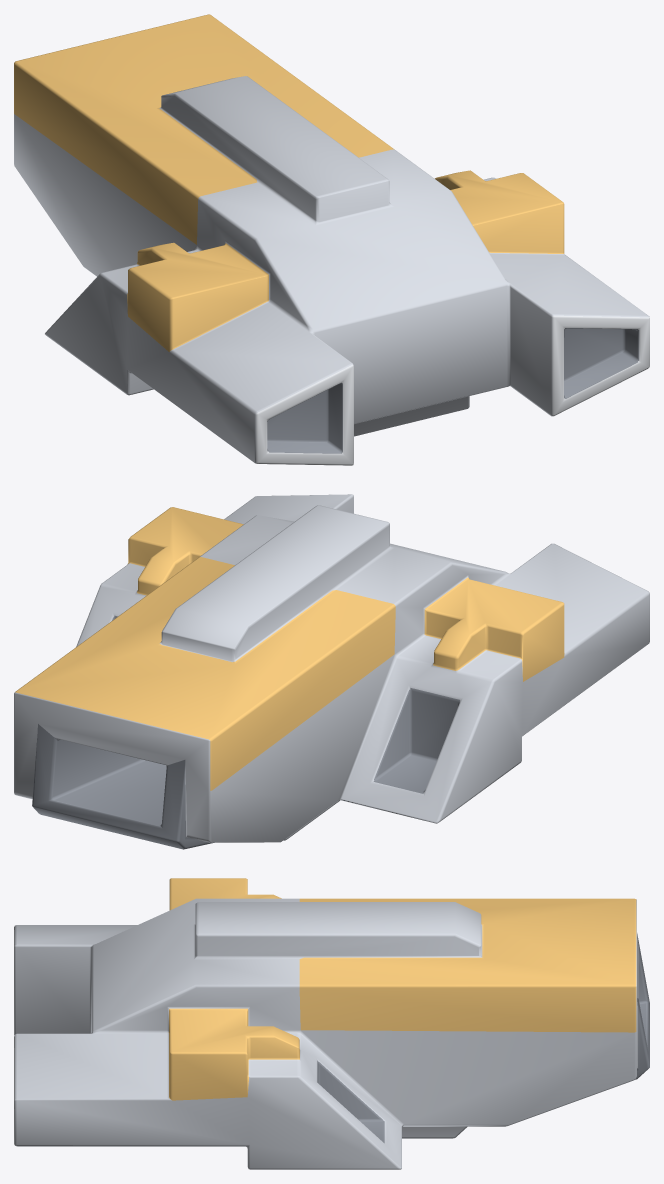
File: craft_cargoA.glb
3 renders of one model, top to bottom at view 1: azimuth 30°, elevation 25°; view 2: azimuth 150°, elevation 25°; view 3: azimuth 270°, elevation 25°, orthographic. The views are drawn at different scales.
Visible parts, largest first — view 1: craft_cargoA; view 2: craft_cargoA; view 3: craft_cargoA.
Part boxes in pixels (x1,y1,x2,y2): craft_cargoA: [14, 14, 649, 465]; craft_cargoA: [14, 494, 649, 849]; craft_cargoA: [14, 878, 649, 1169].
Bounding box in the file's own units: 16 × 8 × 24.49.
